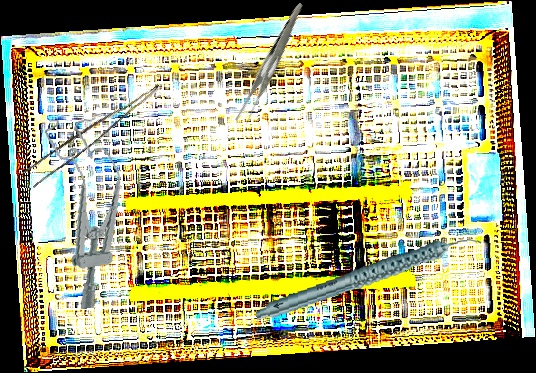Dressing Forceps: (208, 2, 335, 128)
Handpiece: (250, 235, 487, 321)
Speculum: (43, 112, 136, 312)
Tissue Forceps: (21, 69, 161, 193)
